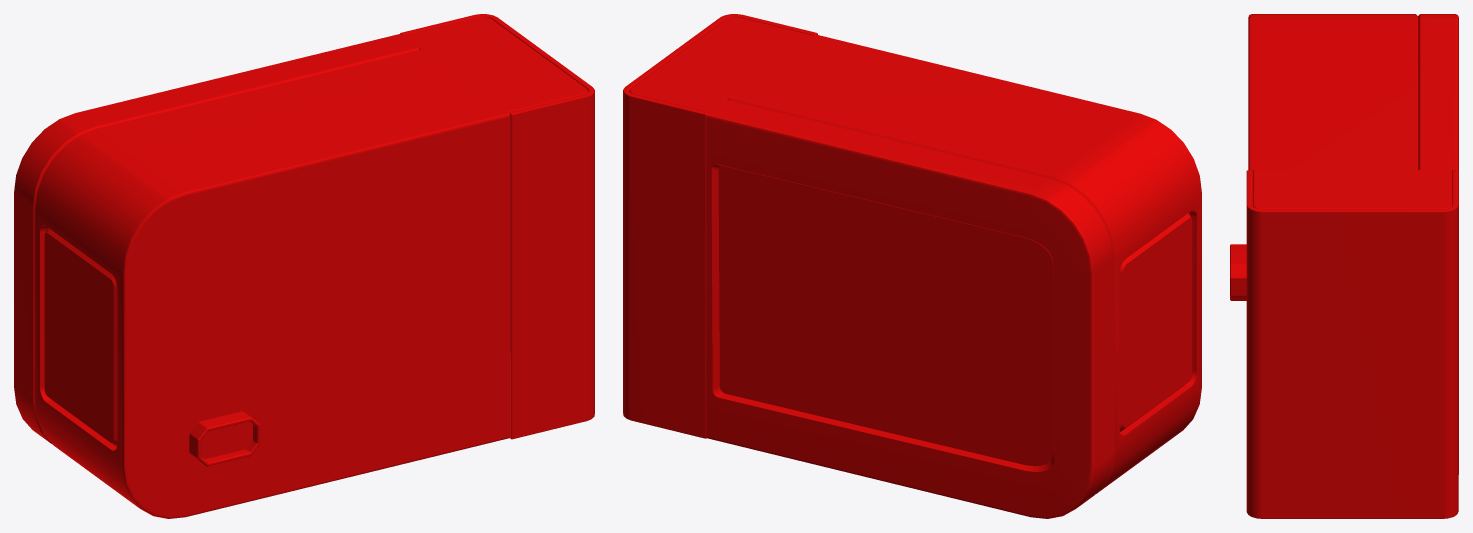
The model's file is Equipment_26.fbx.
The picture shows the model from 3 angles, left to right: view 1: azimuth 30°, elevation 25°; view 2: azimuth 150°, elevation 25°; view 3: azimuth 270°, elevation 25°; orthographic projection. The views are drawn at different scales.
Parts seen in each view (by area): view 1: L7:polySurface1347; view 2: L7:polySurface1347; view 3: L7:polySurface1347.
Boxes of the visible parts, box(x1,y1,x2,y2) form: L7:polySurface1347: box(14, 14, 594, 518); L7:polySurface1347: box(623, 14, 1201, 518); L7:polySurface1347: box(1230, 14, 1458, 518).
Size of the model in its own units: 28.04 by 18.29 by 12.32.
